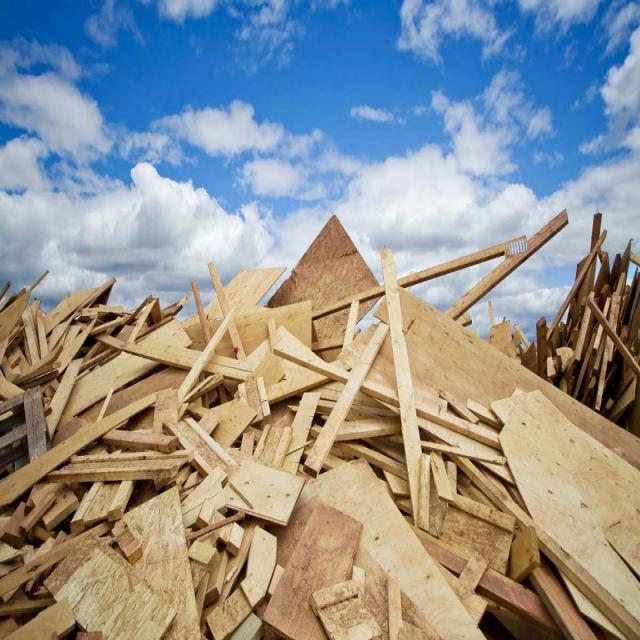green waste: (0, 184, 636, 632)
